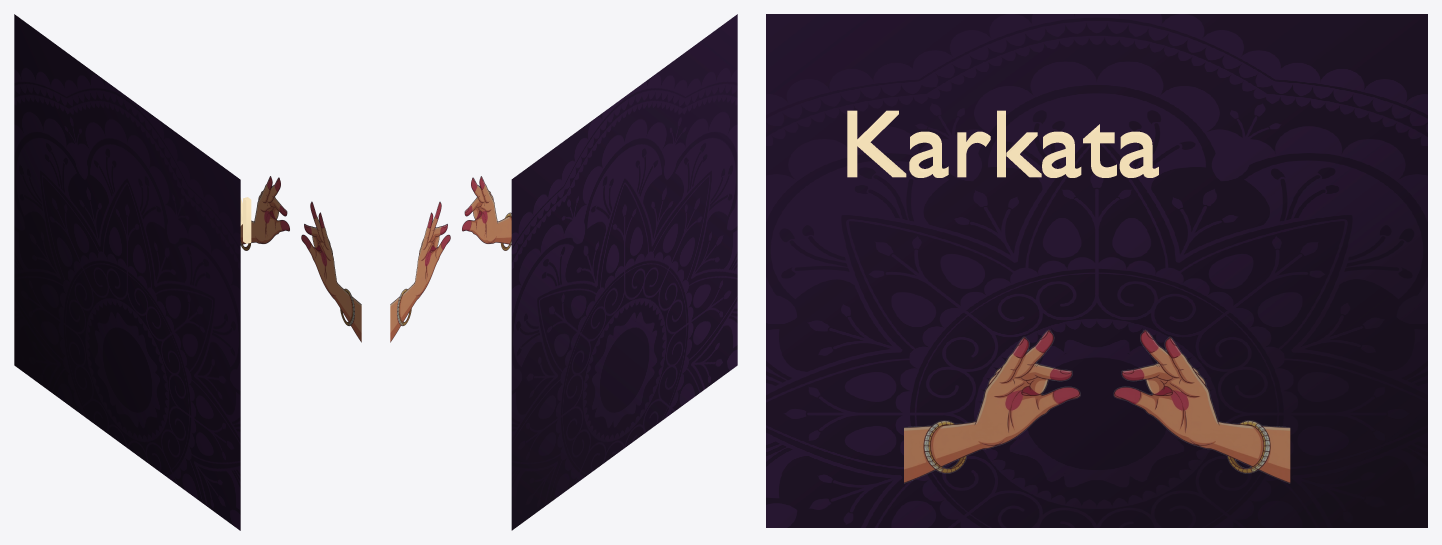
Rendered from karkata.glb.
3 views of the same model, side by side, from view 1: azimuth 30°, elevation 25°; view 2: azimuth 150°, elevation 25°; view 3: azimuth 270°, elevation 25° (orthographic). The views are drawn at different scales.
Visible parts, largest first — view 1: Plane.002, Anjali.002, Text.025; view 2: Plane.002, Anjali.002; view 3: Plane.002, Anjali.002, Text.025.
Part boxes in pixels (left/top/right/bottom): Plane.002: left=14, top=14, right=240, bottom=530; Anjali.002: left=240, top=176, right=361, bottom=342; Text.025: left=240, top=197, right=251, bottom=243; Plane.002: left=511, top=14, right=737, bottom=530; Anjali.002: left=390, top=176, right=511, bottom=342; Plane.002: left=766, top=14, right=1427, bottom=527; Anjali.002: left=904, top=330, right=1290, bottom=483; Text.025: left=847, top=110, right=1158, bottom=177.
Bounding box in the file's own units: 1.53 × 3.05 × 3.56.
Materials: 3 (2 with a texture image).
